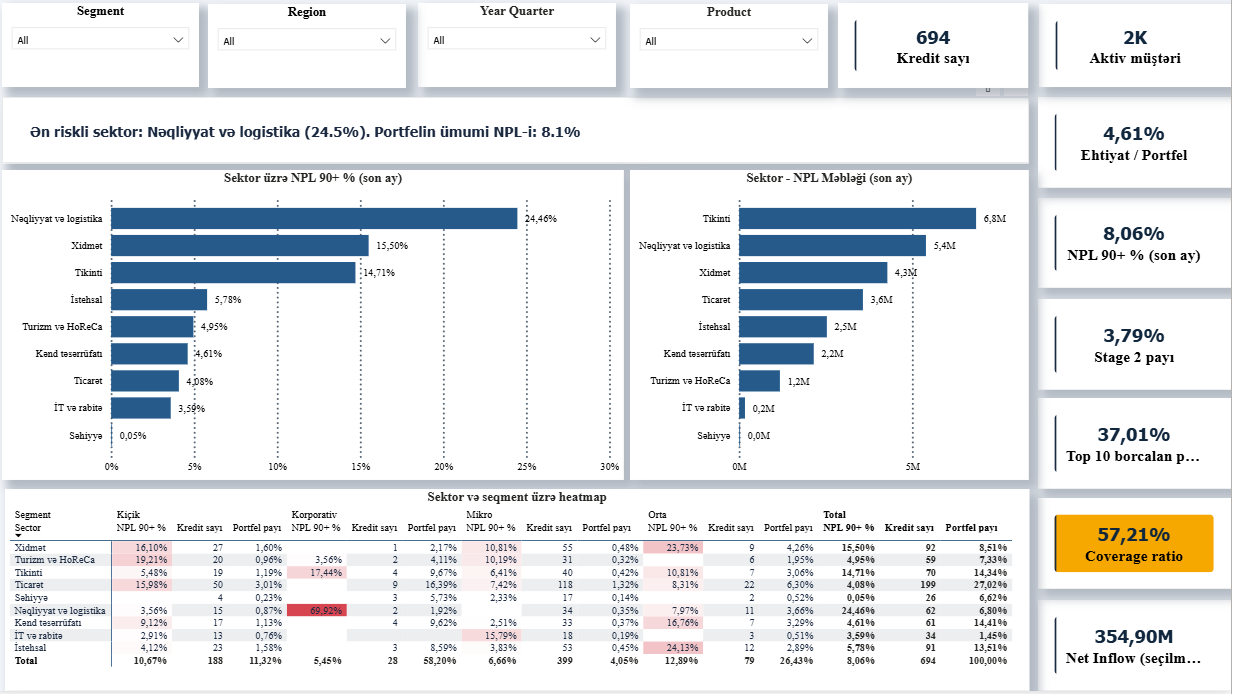

Layout of this report page (visuals, bound fields, positions):
{"tool":"powerbi","page":{"name":"Kredit Riski","canvas":[1280,720],"ordinal":1},"visuals":[{"type":"slicer","title":"Year Quarter","fields":{"Values":["DimDate.YearQuarter"]},"box":[437.6,7.3,205,87.3],"z":0},{"type":"slicer","title":"Segment","fields":{"Values":["DimCustomer.Segment"]},"box":[7.3,7.3,204,87],"z":1000},{"type":"slicer","title":"Region","fields":{"Values":["DimCustomer.Region"]},"box":[220.2,8.2,205,87],"z":2000},{"type":"cardVisual","fields":{"Data":["Table.Insight"]},"box":[7.4,104.2,1063.2,68.7],"z":6000},{"type":"cardVisual","fields":{"Data":["Table.NPL 90+ % (son ay)"]},"box":[1080.2,209,199.8,93.4],"z":7000},{"type":"cardVisual","fields":{"Data":["Table.Ehtiyat / Portfel"]},"box":[1080.2,104.6,199.8,94.4],"z":8000},{"type":"cardVisual","fields":{"Data":["Table.Net Inflow"]},"box":[1080.2,625.8,199.8,94.4],"z":9000},{"type":"cardVisual","fields":{"Data":["Table.Stage 2 payı"]},"box":[1080.2,313.4,199.8,94.4],"z":10000},{"type":"cardVisual","fields":{"Data":["Table.Top 10 borcalan payı"]},"box":[1080.2,415.8,199.8,94.4],"z":11000},{"type":"cardVisual","fields":{"Data":["Table.Coverage ratio"]},"box":[1080.2,520.2,199.8,94.4],"z":12000},{"type":"clusteredBarChart","title":"Sektor üzrə NPL 90+ % (son ay)","fields":{"Category":["DimCustomer.Sector"],"Y":["Table.NPL 90+ % (son ay)"]},"box":[7.3,180.1,644.1,321.1],"z":13000},{"type":"clusteredBarChart","title":"Sektor - NPL Məbləği (son ay)","fields":{"Category":["DimCustomer.Sector"],"Y":["Table.NPL məbləği (son ay)"]},"box":[657.7,180.1,413,321.1],"z":15000},{"type":"pivotTable","title":"Sektor və seqment üzrə heatmap","fields":{"Columns":["DimCustomer.Segment"],"Rows":["DimCustomer.Sector"],"Values":["Table.NPL 90+ %","Table.Kredit sayı","Table.Portfel payı"]},"box":[10,510.4,1060.8,209.2],"z":16000},{"type":"cardVisual","fields":{"Data":["Table.Aktiv müştəri"]},"box":[1080.8,8.2,199.2,86.4],"z":19000},{"type":"slicer","title":"Product","fields":{"Values":["DimLoan.Product"]},"box":[657.7,8.2,205,87],"z":20000},{"type":"cardVisual","fields":{"Data":["Table.Kredit sayı"]},"box":[873.3,7.3,197.4,88.2],"z":22000}]}

Visuals, with their boxes in screenshot pixels (x1, y1, x2, y2), scaled from the page's 1280x720 canvas onto the 1233x694 screenshot:
"Year Quarter" slicer: bbox=(422, 7, 619, 91)
"Segment" slicer: bbox=(7, 7, 204, 91)
"Region" slicer: bbox=(212, 8, 410, 92)
cardVisual - Table.Insight: bbox=(7, 100, 1031, 167)
cardVisual - Table.NPL 90+ % (son ay): bbox=(1041, 201, 1232, 291)
cardVisual - Table.Ehtiyat / Portfel: bbox=(1041, 101, 1232, 192)
cardVisual - Table.Net Inflow: bbox=(1041, 603, 1232, 693)
cardVisual - Table.Stage 2 payı: bbox=(1041, 302, 1232, 393)
cardVisual - Table.Top 10 borcalan payı: bbox=(1041, 401, 1232, 492)
cardVisual - Table.Coverage ratio: bbox=(1041, 501, 1232, 592)
"Sektor üzrə NPL 90+ % (son ay)" clusteredBarChart: bbox=(7, 174, 627, 483)
"Sektor - NPL Məbləği (son ay)" clusteredBarChart: bbox=(634, 174, 1031, 483)
"Sektor və seqment üzrə heatmap" pivotTable: bbox=(10, 492, 1031, 693)
cardVisual - Table.Aktiv müştəri: bbox=(1041, 8, 1232, 91)
"Product" slicer: bbox=(634, 8, 831, 92)
cardVisual - Table.Kredit sayı: bbox=(841, 7, 1031, 92)
